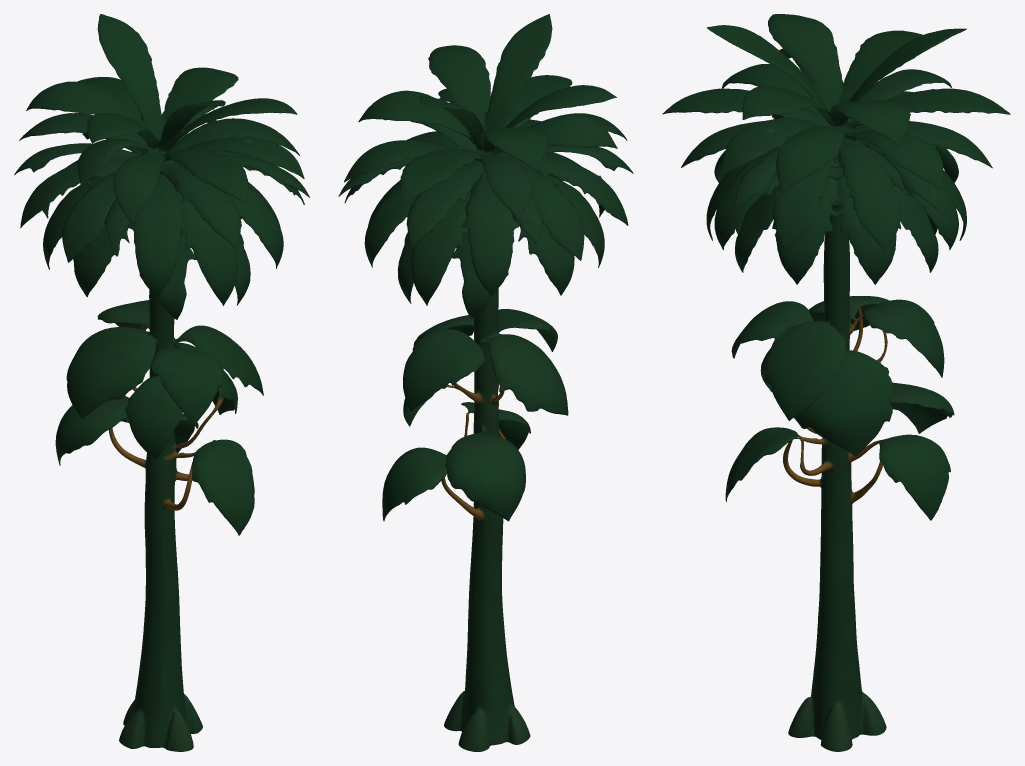
The model's file is noite_arvore.glb.
3 renders of one model, left to right at view 1: azimuth 30°, elevation 25°; view 2: azimuth 150°, elevation 25°; view 3: azimuth 270°, elevation 25°, orthographic. The views are drawn at different scales.
Bounding box in the file's own units: 0.6984 × 1.9 × 0.8516.
1 material, 1 textured.
